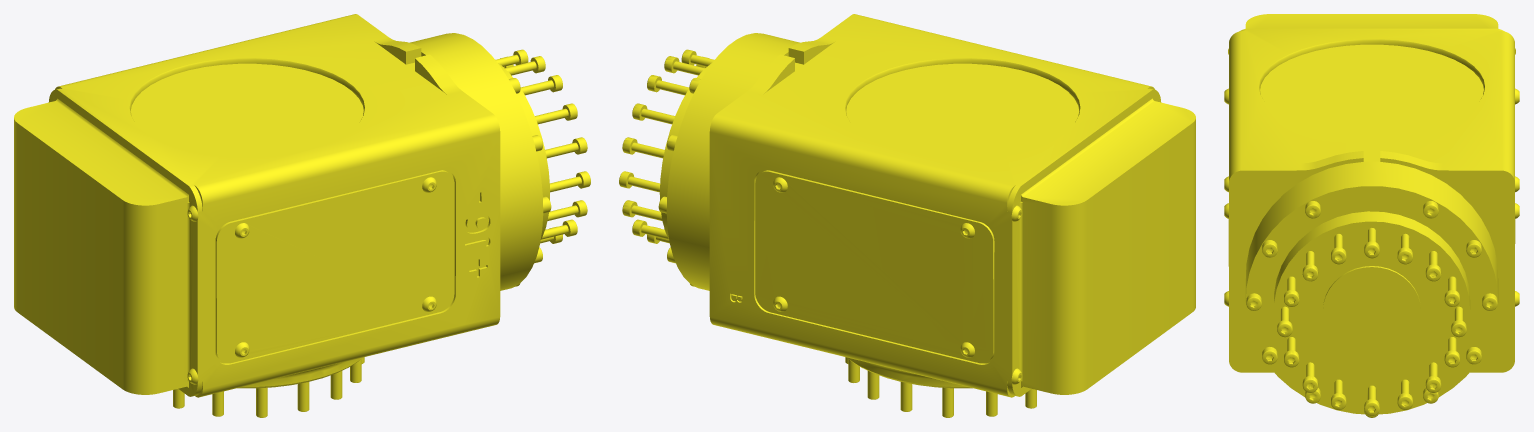
The picture shows the model from 3 angles, left to right: view 1: azimuth 30°, elevation 25°; view 2: azimuth 150°, elevation 25°; view 3: azimuth 270°, elevation 25°; orthographic projection. The views are drawn at different scales.
Parts seen in each view (by area): view 1: /Link5/Link5-mesh/0; view 2: /Link5/Link5-mesh/0; view 3: /Link5/Link5-mesh/0.
Part boxes in pixels (box(x1,y1,x2,y2)): /Link5/Link5-mesh/0: box(14, 14, 590, 417); /Link5/Link5-mesh/0: box(619, 14, 1195, 417); /Link5/Link5-mesh/0: box(1224, 14, 1519, 417).
Size of the model in its own units: 0.1865 by 0.1034 by 0.1053.
